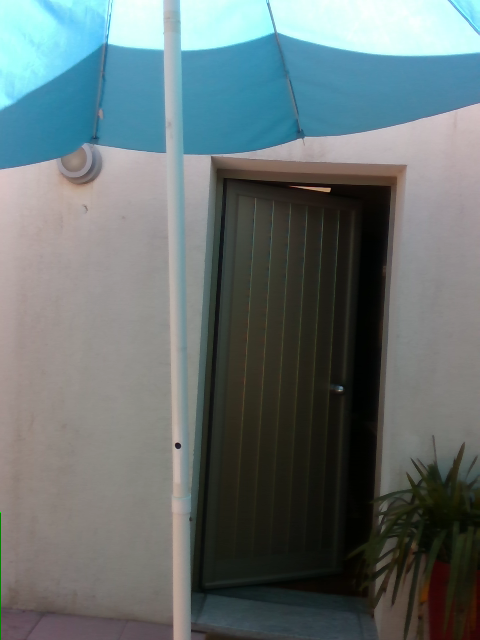semi: (183, 157, 406, 608)
